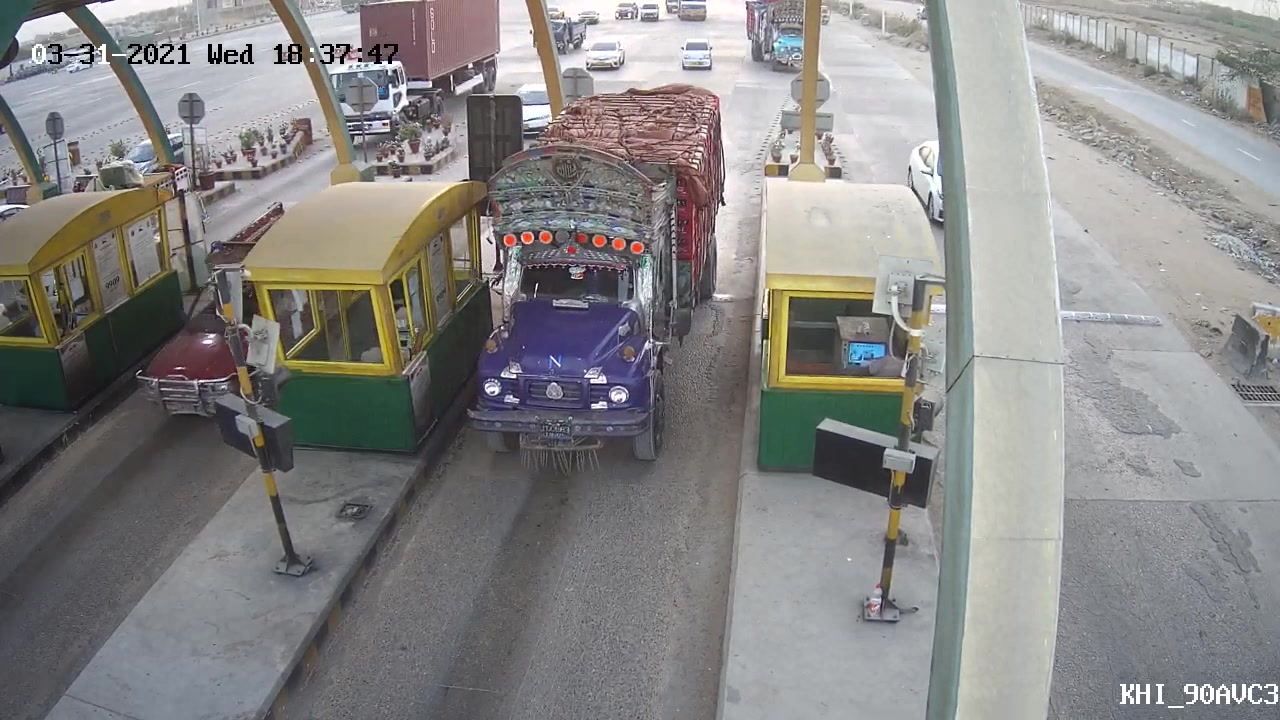F5: (449, 124, 693, 473)
